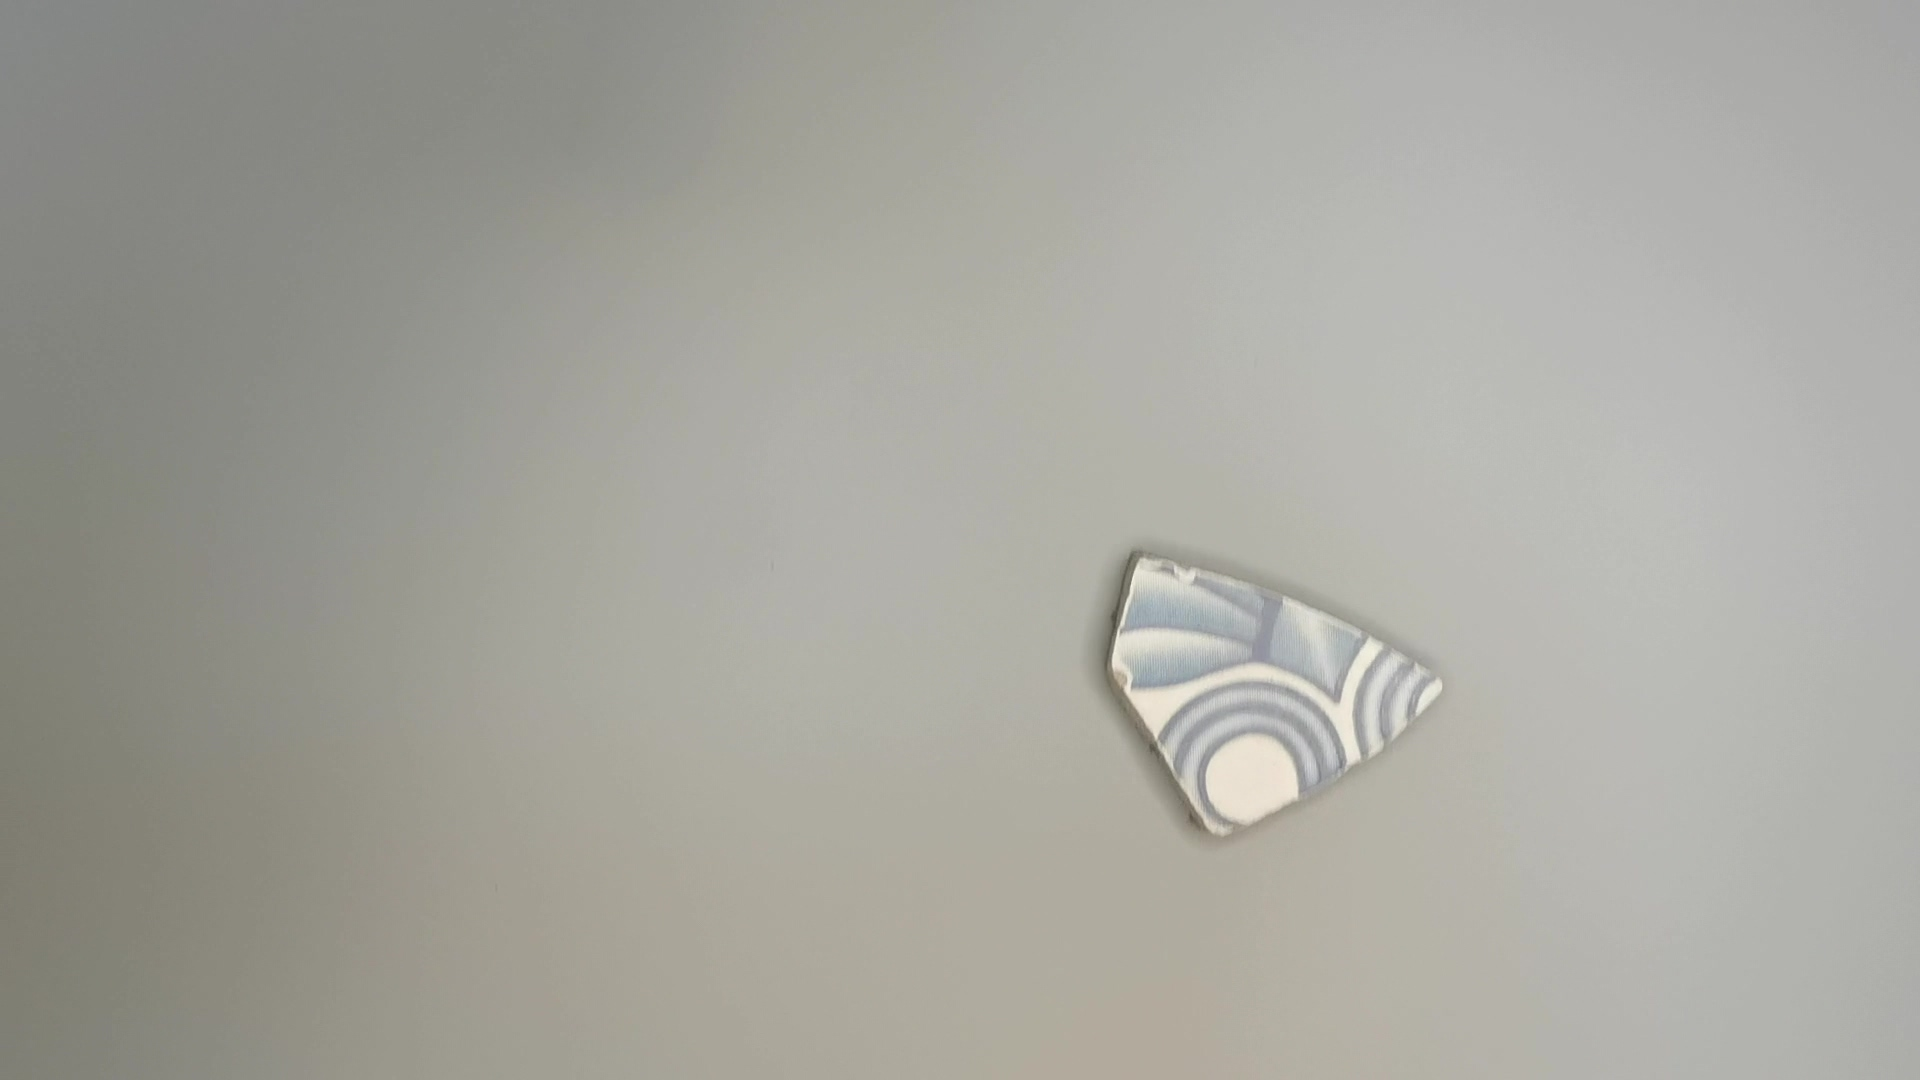ceramic: (1091, 543, 1458, 851)
